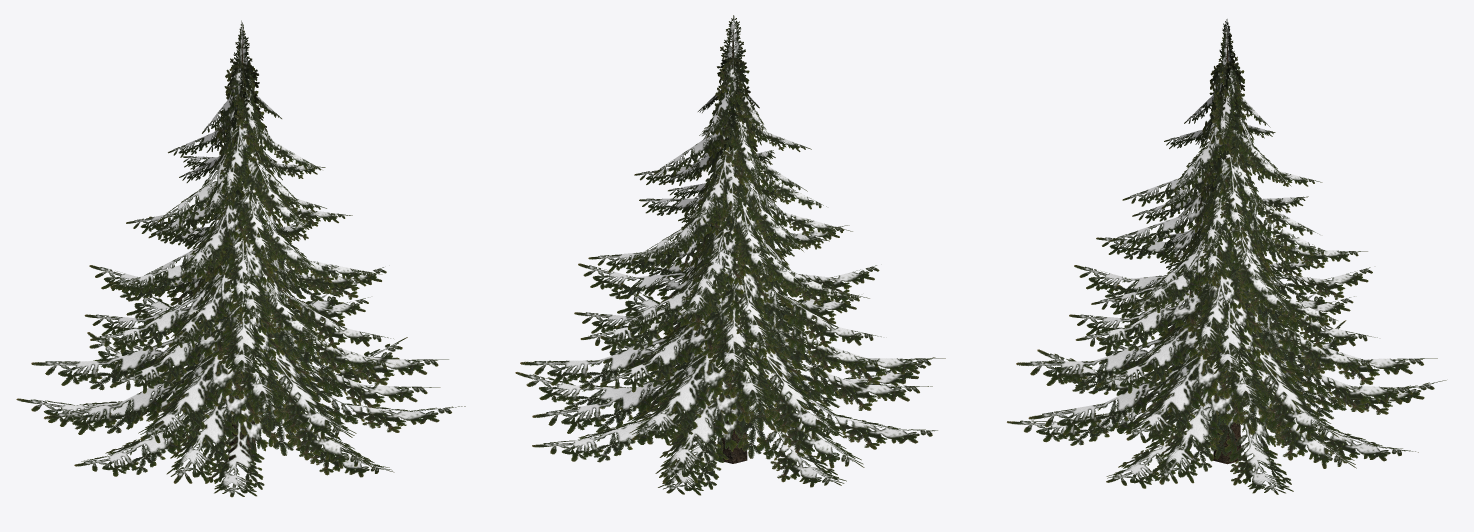
File: half-snowy-pine.glb
3 renders of one model, left to right at view 1: azimuth 30°, elevation 25°; view 2: azimuth 150°, elevation 25°; view 3: azimuth 270°, elevation 25°, orthographic.
Size of the model in its own units: 95.02 by 98.96 by 95.03.
Materials: 1 (1 with a texture image).
